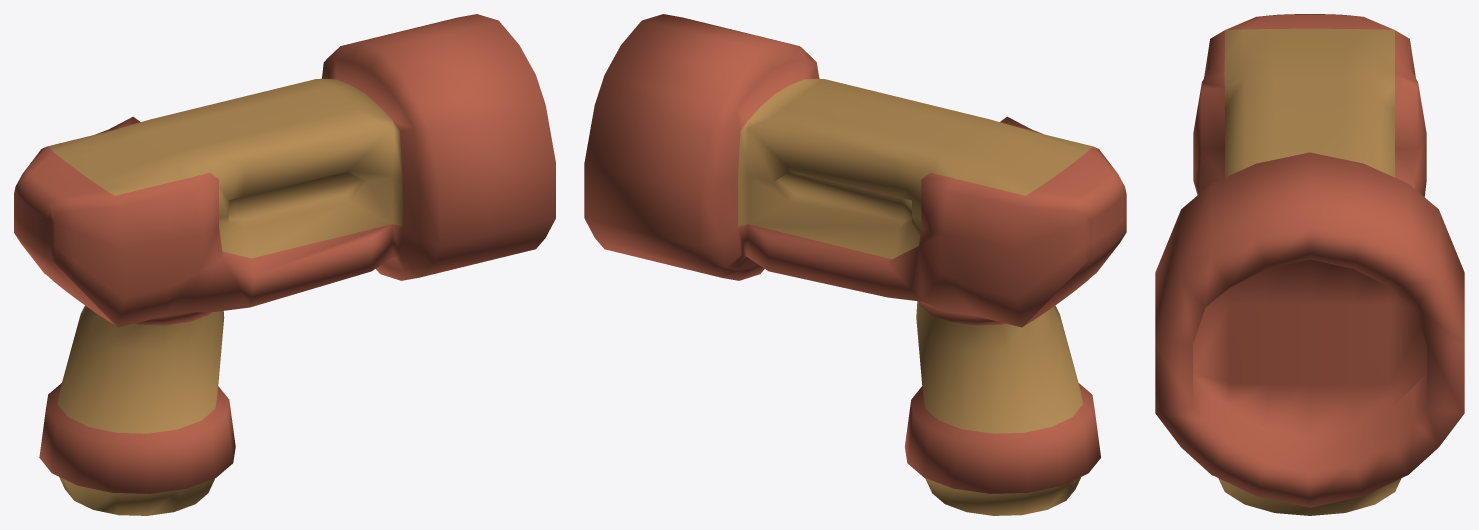
Rendered from Turnip_Gun.fbx.
The picture shows the model from 3 angles, left to right: view 1: azimuth 30°, elevation 25°; view 2: azimuth 150°, elevation 25°; view 3: azimuth 270°, elevation 25°; orthographic projection. The views are drawn at different scales.
Parts seen in each view (by area): view 1: TurnipGun; view 2: TurnipGun; view 3: TurnipGun.
Part boxes in pixels (x1,y1,x2,y2): TurnipGun: [14, 14, 555, 515]; TurnipGun: [584, 14, 1126, 515]; TurnipGun: [1155, 14, 1464, 515].
Size of the model in its own units: 195 by 150 by 89.05.
